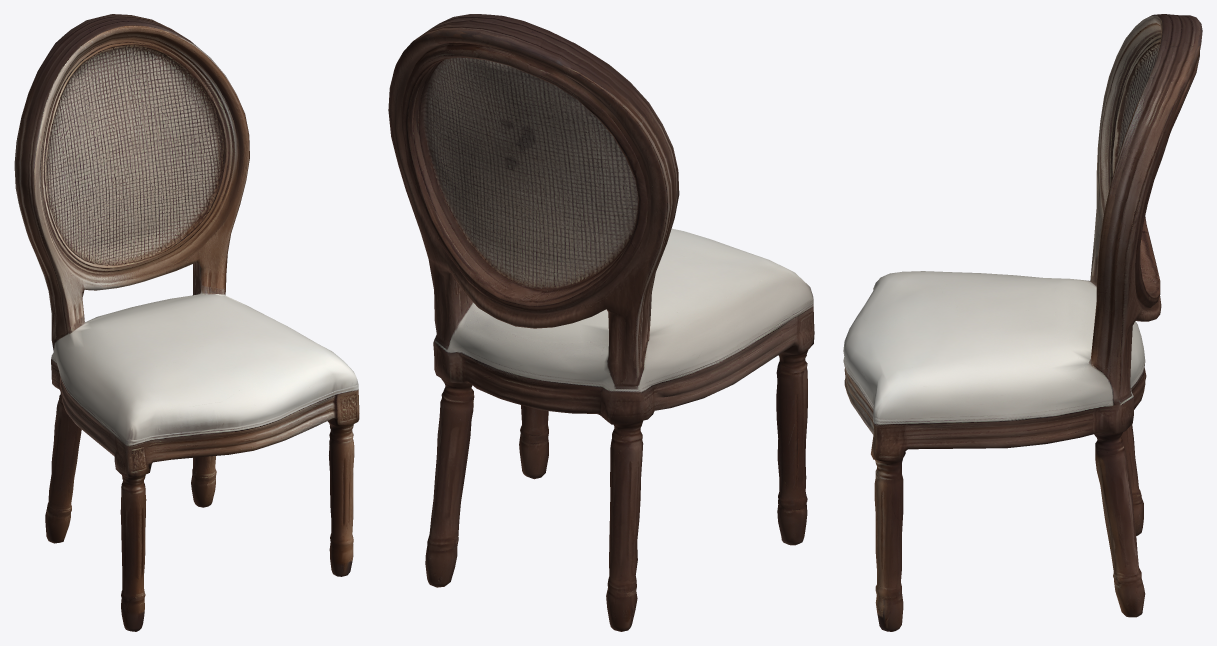
The model's file is Wooden_Mesh_Rustic_Fa_0404022054_texture.glb.
3 renders of one model, left to right at view 1: azimuth 30°, elevation 25°; view 2: azimuth 150°, elevation 25°; view 3: azimuth 270°, elevation 25°, orthographic. The views are drawn at different scales.
Parts seen in each view (by area): view 1: Mesh_0.003; view 2: Mesh_0.003; view 3: Mesh_0.003.
Boxes of the visible parts, x1,y1,x2,y2 form: Mesh_0.003: [14, 14, 359, 631]; Mesh_0.003: [388, 14, 814, 631]; Mesh_0.003: [843, 14, 1202, 631].
Bounding box in the file's own units: 0.4089 × 0.8128 × 0.4807.
1 material, 1 textured.
